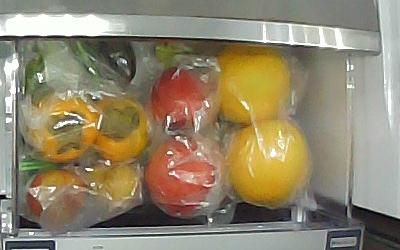apple_vinyl: (145, 135, 224, 218), (152, 66, 211, 128)
grapefruit_vinyl: (227, 121, 308, 208), (217, 43, 293, 124)
persimmon_vinyl: (32, 96, 95, 163), (92, 98, 147, 162)
prune_vinyl: (27, 168, 86, 226), (84, 163, 141, 205)
